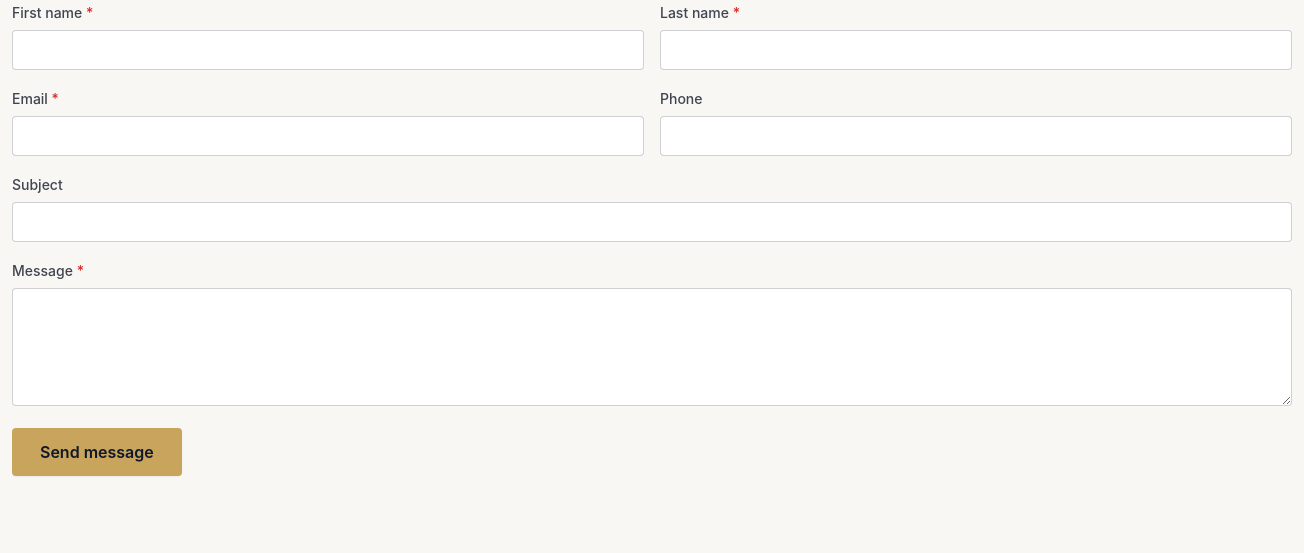
Test: ContactForm › shows a server error without losing the form
The width and height of the screenshot is (1304, 553).
Type "Jane" into the field labelled "First name *" at (328, 50), box [12,30,644,70]
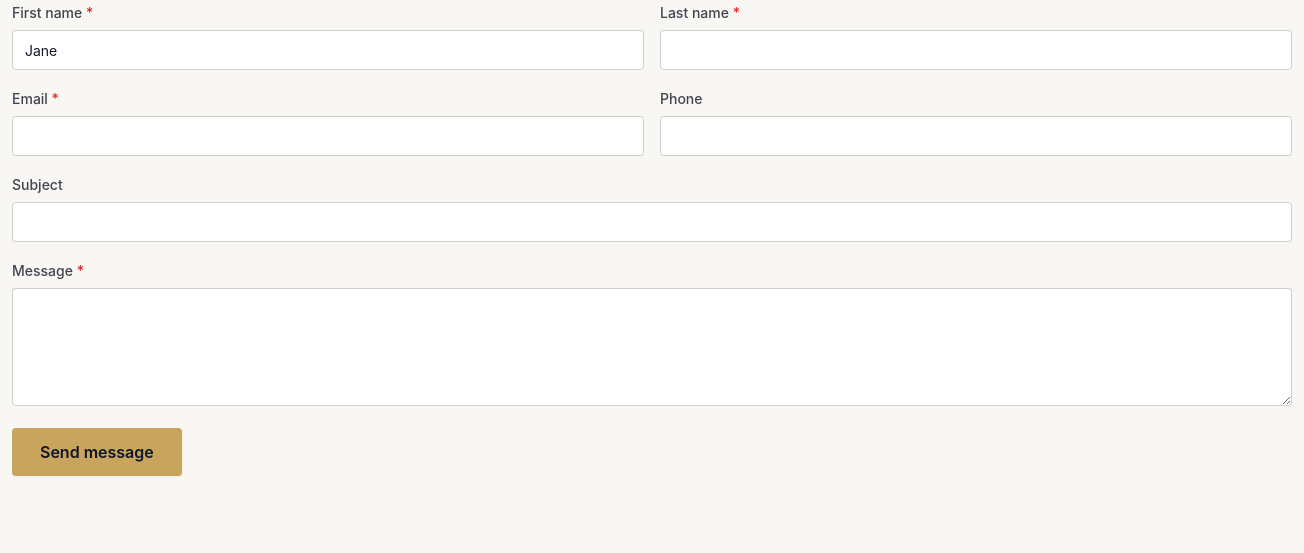
Type "Doe" into the field labelled "Last name *" at (976, 50), box [660,30,1292,70]
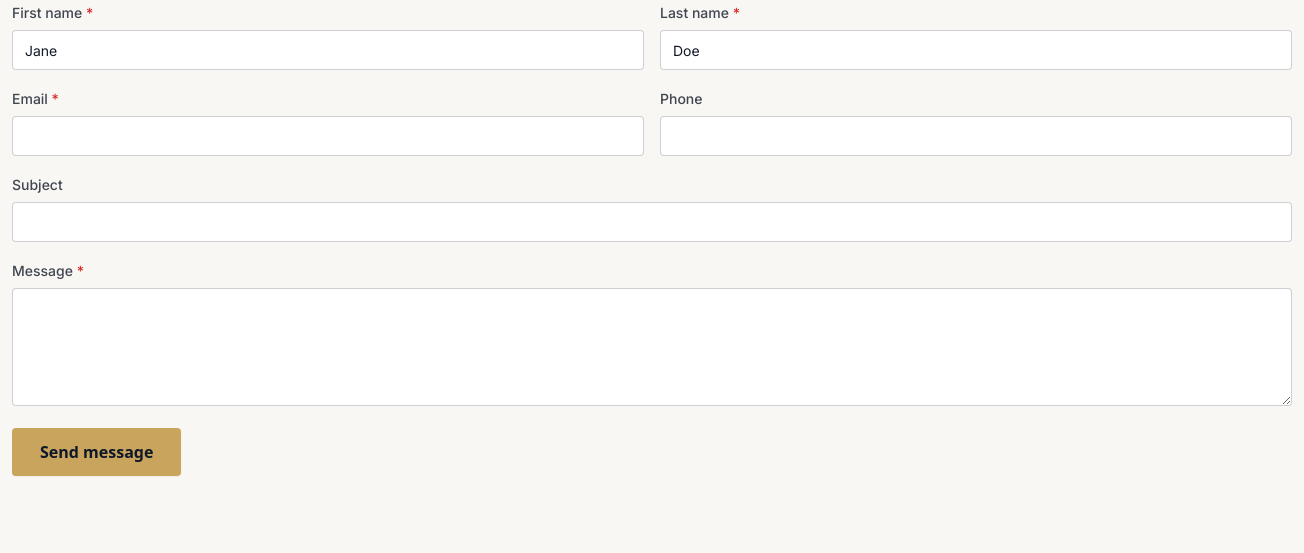
Type "jane@example.com" into the field labelled "Email *" at (328, 136), box [12,116,644,156]
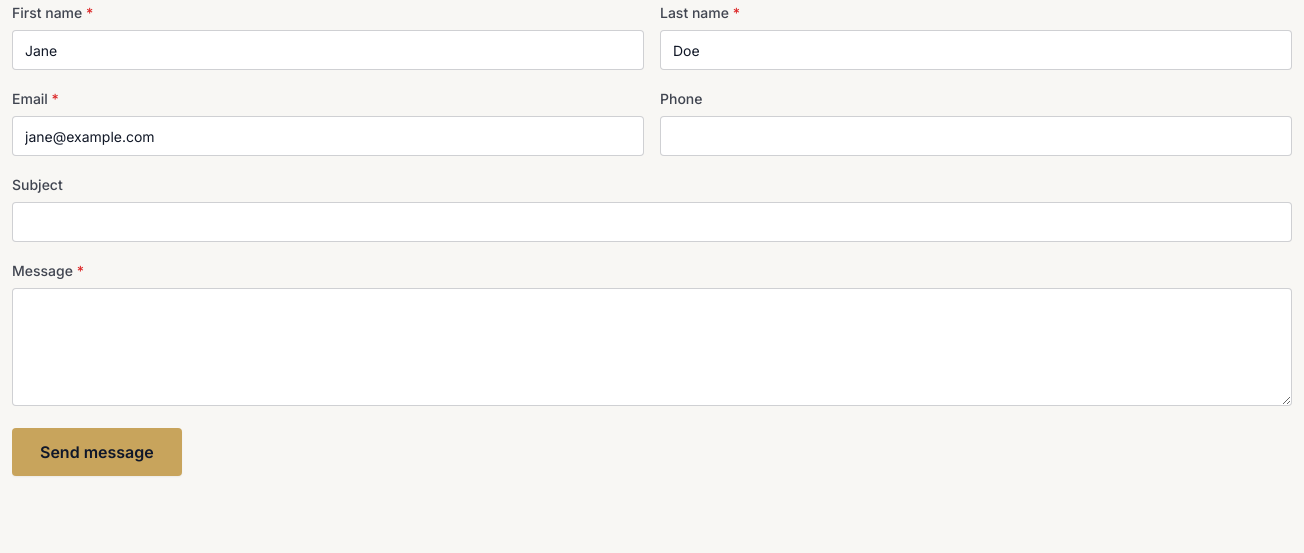
Type "Hello there friend" into the text box labelled "Message *" at (652, 347), box [12,288,1292,406]
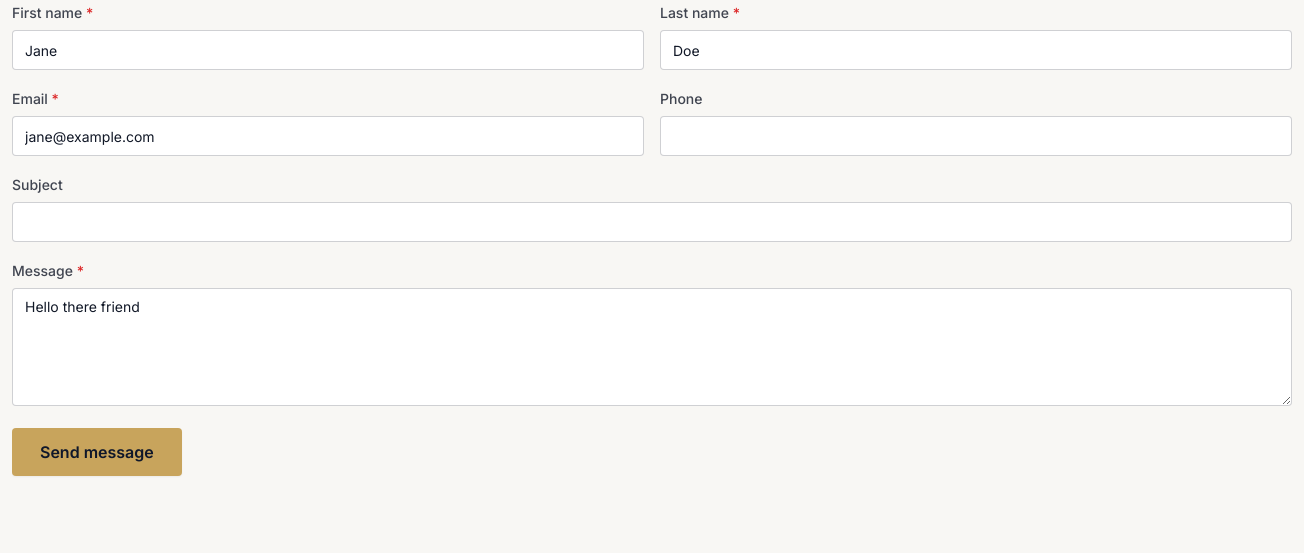
Click the button "Send message" at (97, 452), box [12,428,182,476]
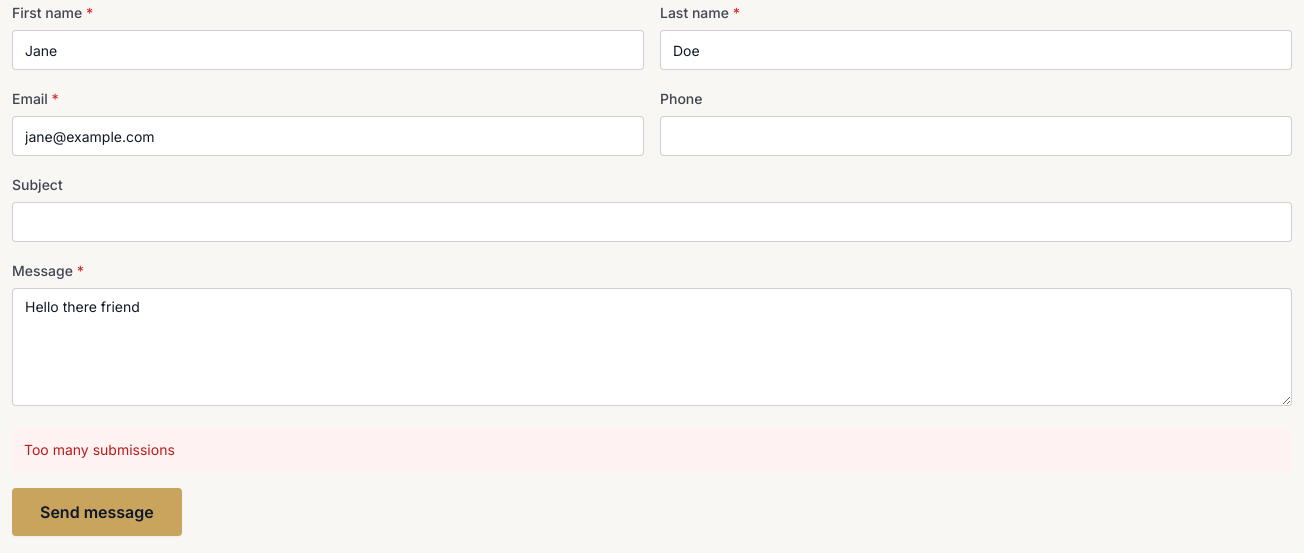
Expected: the button "Send message" is shown, [12,488,182,536]
Expected: the message reads "Too many submissions", [24,441,175,458]
